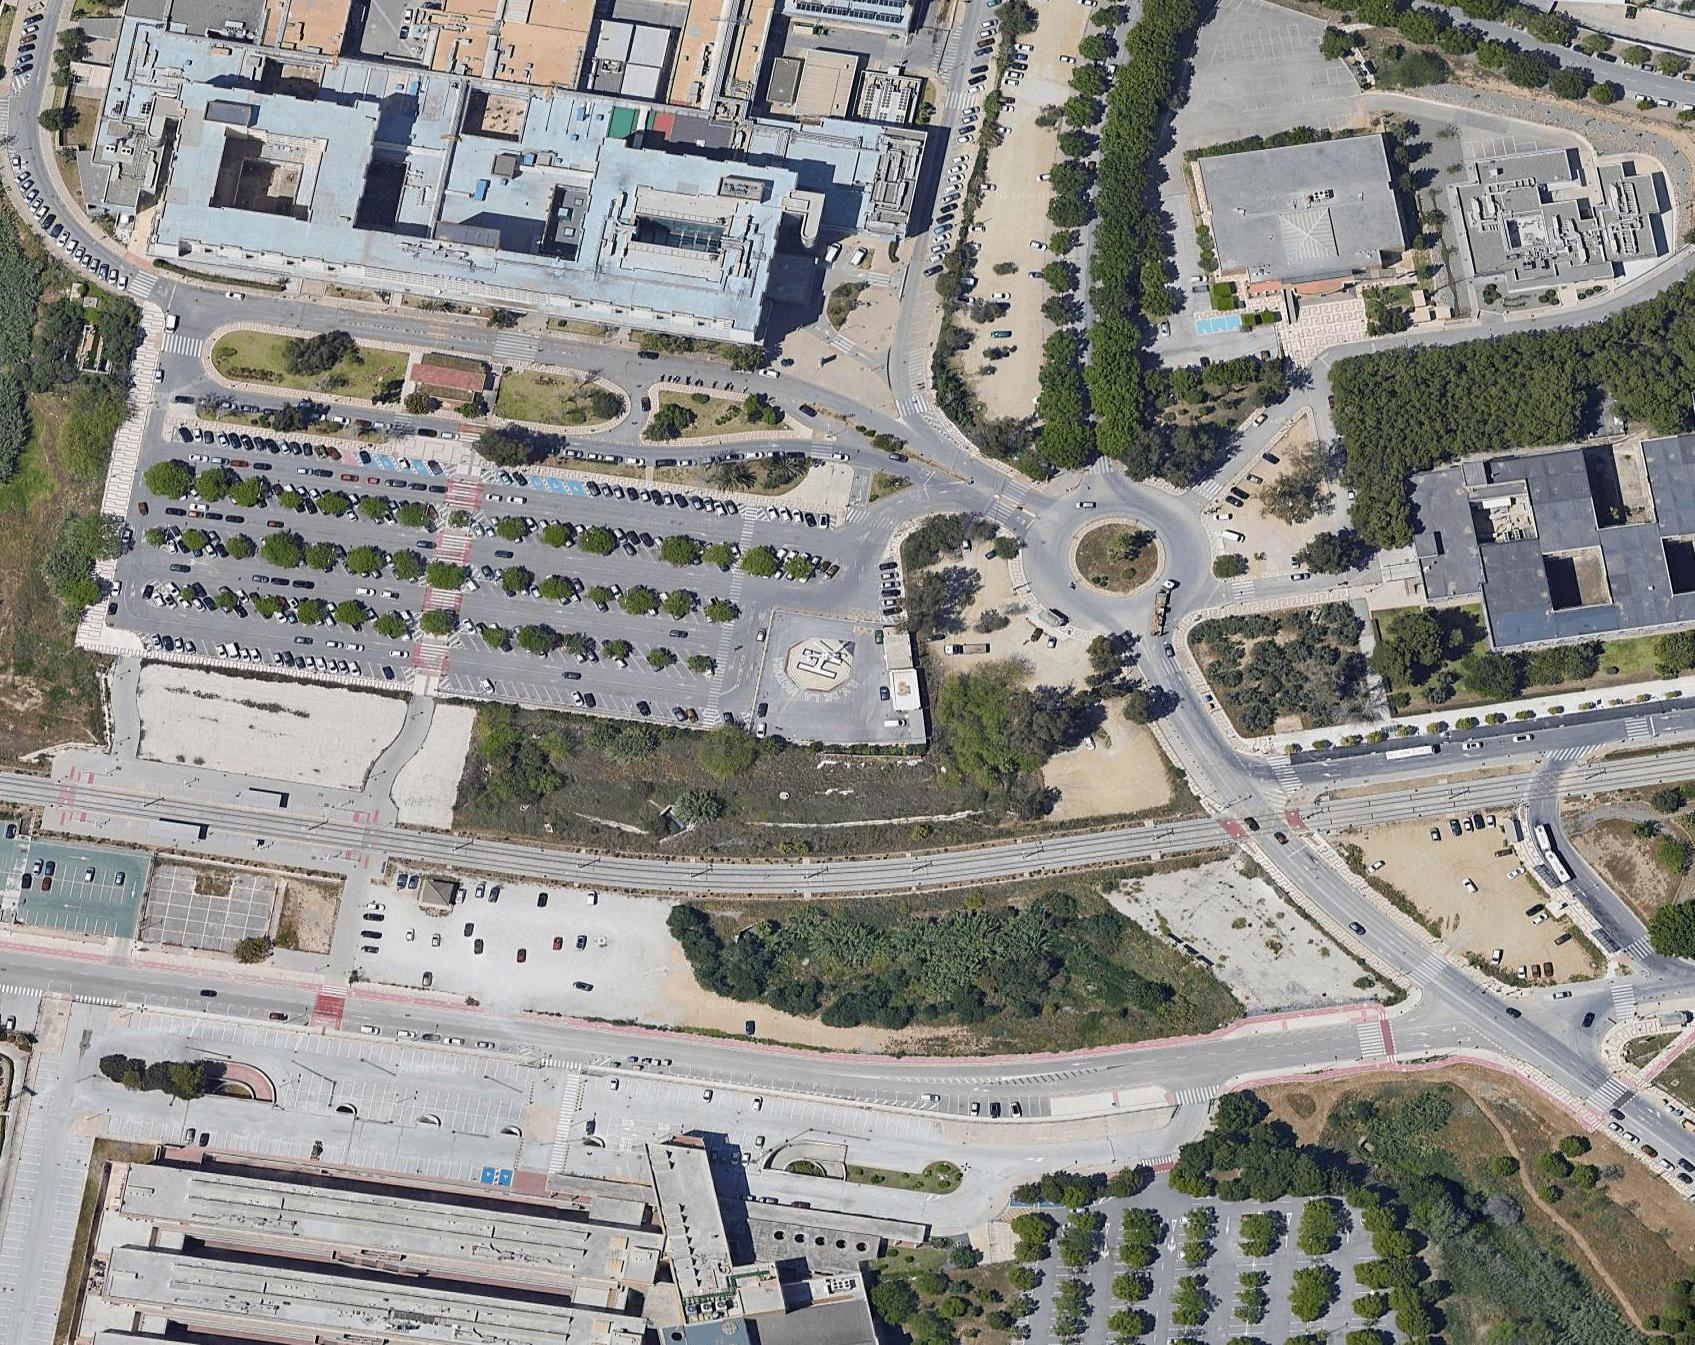helicopter: (805, 642, 843, 666)
helipad: (781, 630, 859, 695)
roundabout: (1065, 506, 1169, 600)
